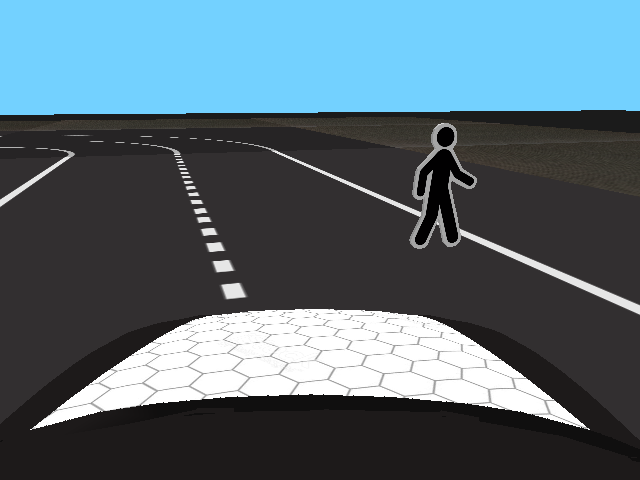pedestrian: (409, 122, 477, 250)
